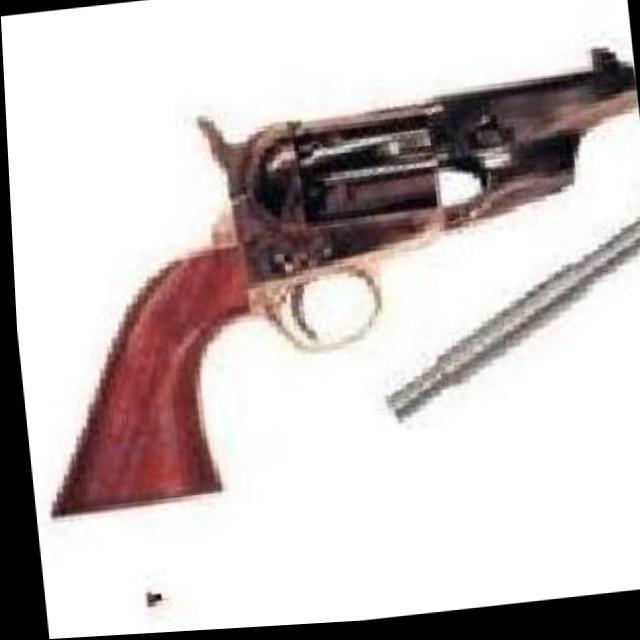weapon: (3, 47, 640, 519)
